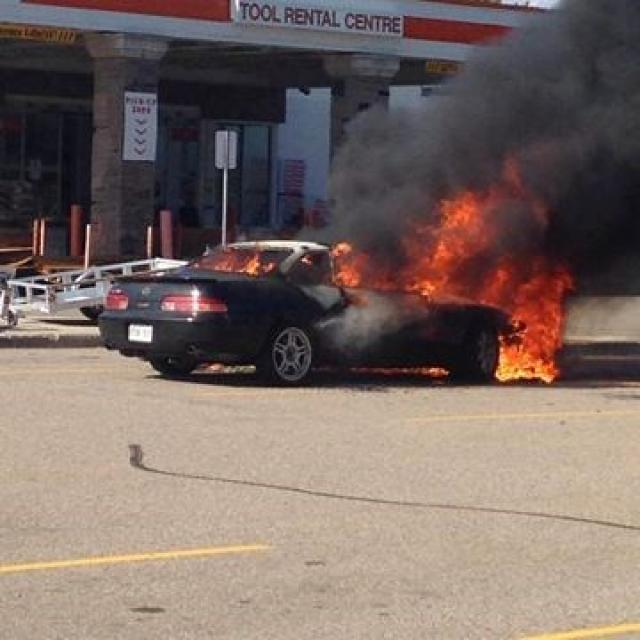Fire: (344, 204, 572, 389)
Smoke: (305, 1, 640, 202)
